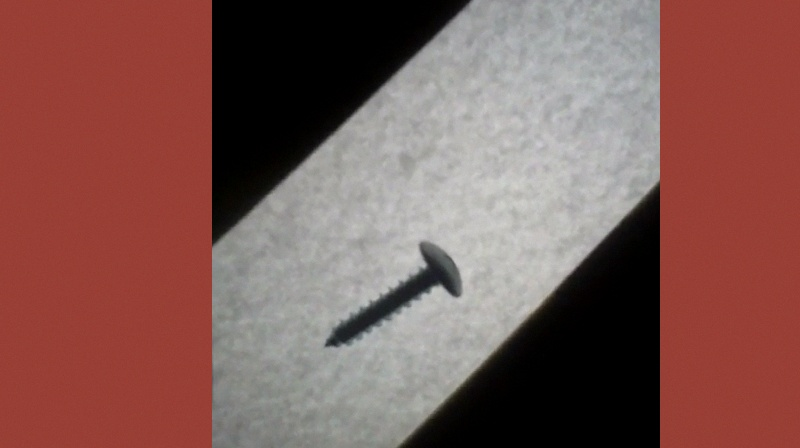S003: (320, 237, 464, 351)
